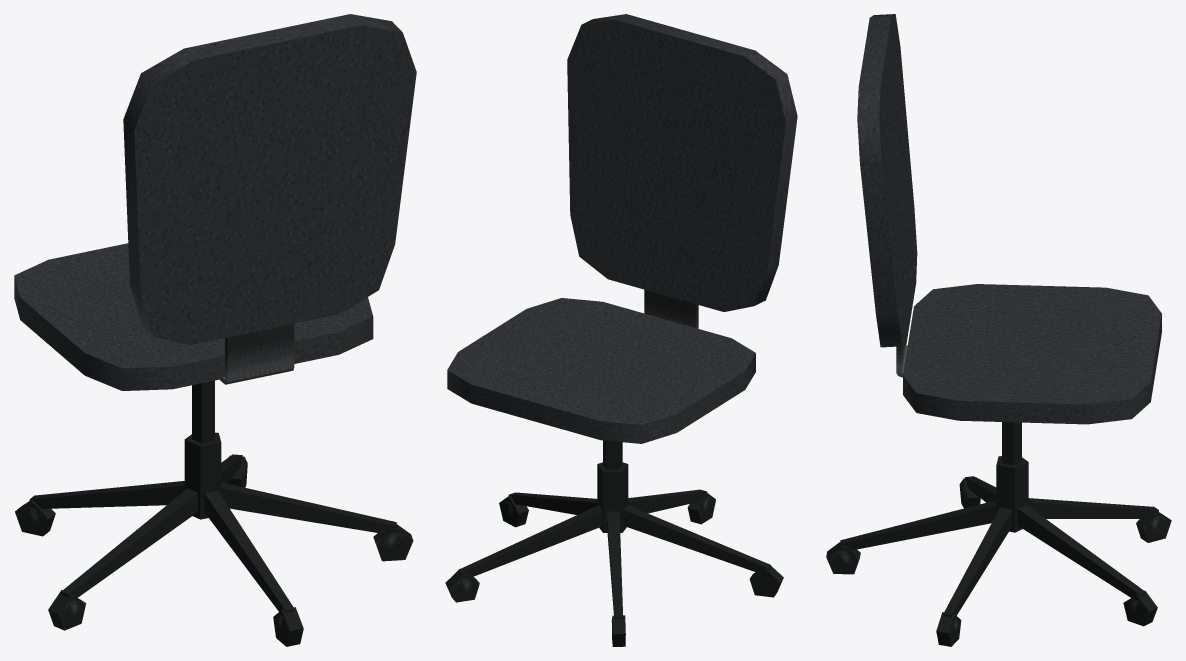
The model's file is chair.glb.
3 views of the same model, side by side, from view 1: azimuth 30°, elevation 25°; view 2: azimuth 150°, elevation 25°; view 3: azimuth 270°, elevation 25° (orthographic). The views are drawn at different scales.
Visible parts, largest first — view 1: hinge; view 2: hinge; view 3: hinge.
Boxes of the visible parts, left/top/right/bottom form: hinge: left=14, top=14, right=416, bottom=646; hinge: left=445, top=14, right=797, bottom=646; hinge: left=826, top=14, right=1171, bottom=646.
Bounding box in the file's own units: 0.6685 × 1.08 × 0.6496.
Materials: 1 (1 with a texture image).
